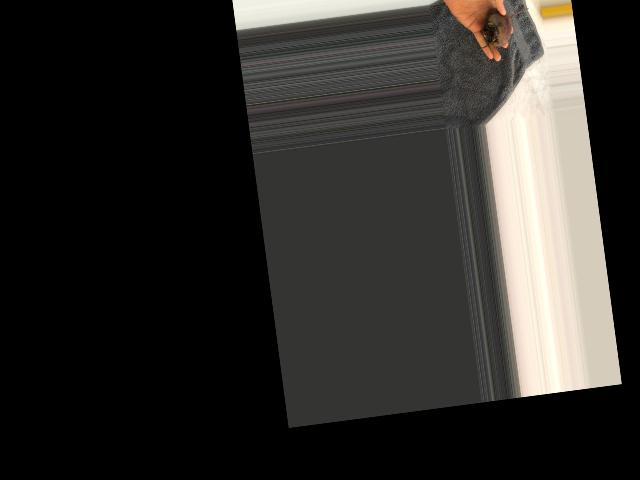beet: (478, 3, 532, 48)
